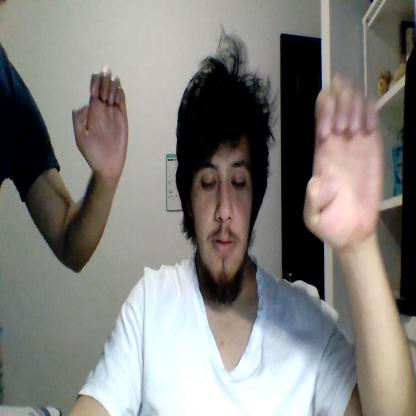E: (303, 73, 383, 244), (73, 66, 129, 176)
